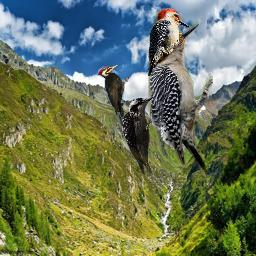Woodpecker: (143, 19, 213, 187), (119, 92, 158, 178), (148, 8, 192, 76), (96, 64, 129, 121)
